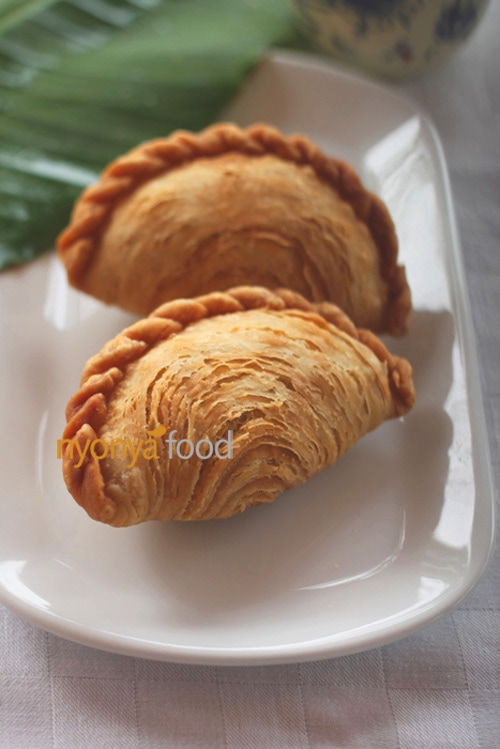Curry Puff: (35, 286, 441, 530), (57, 109, 412, 336)
